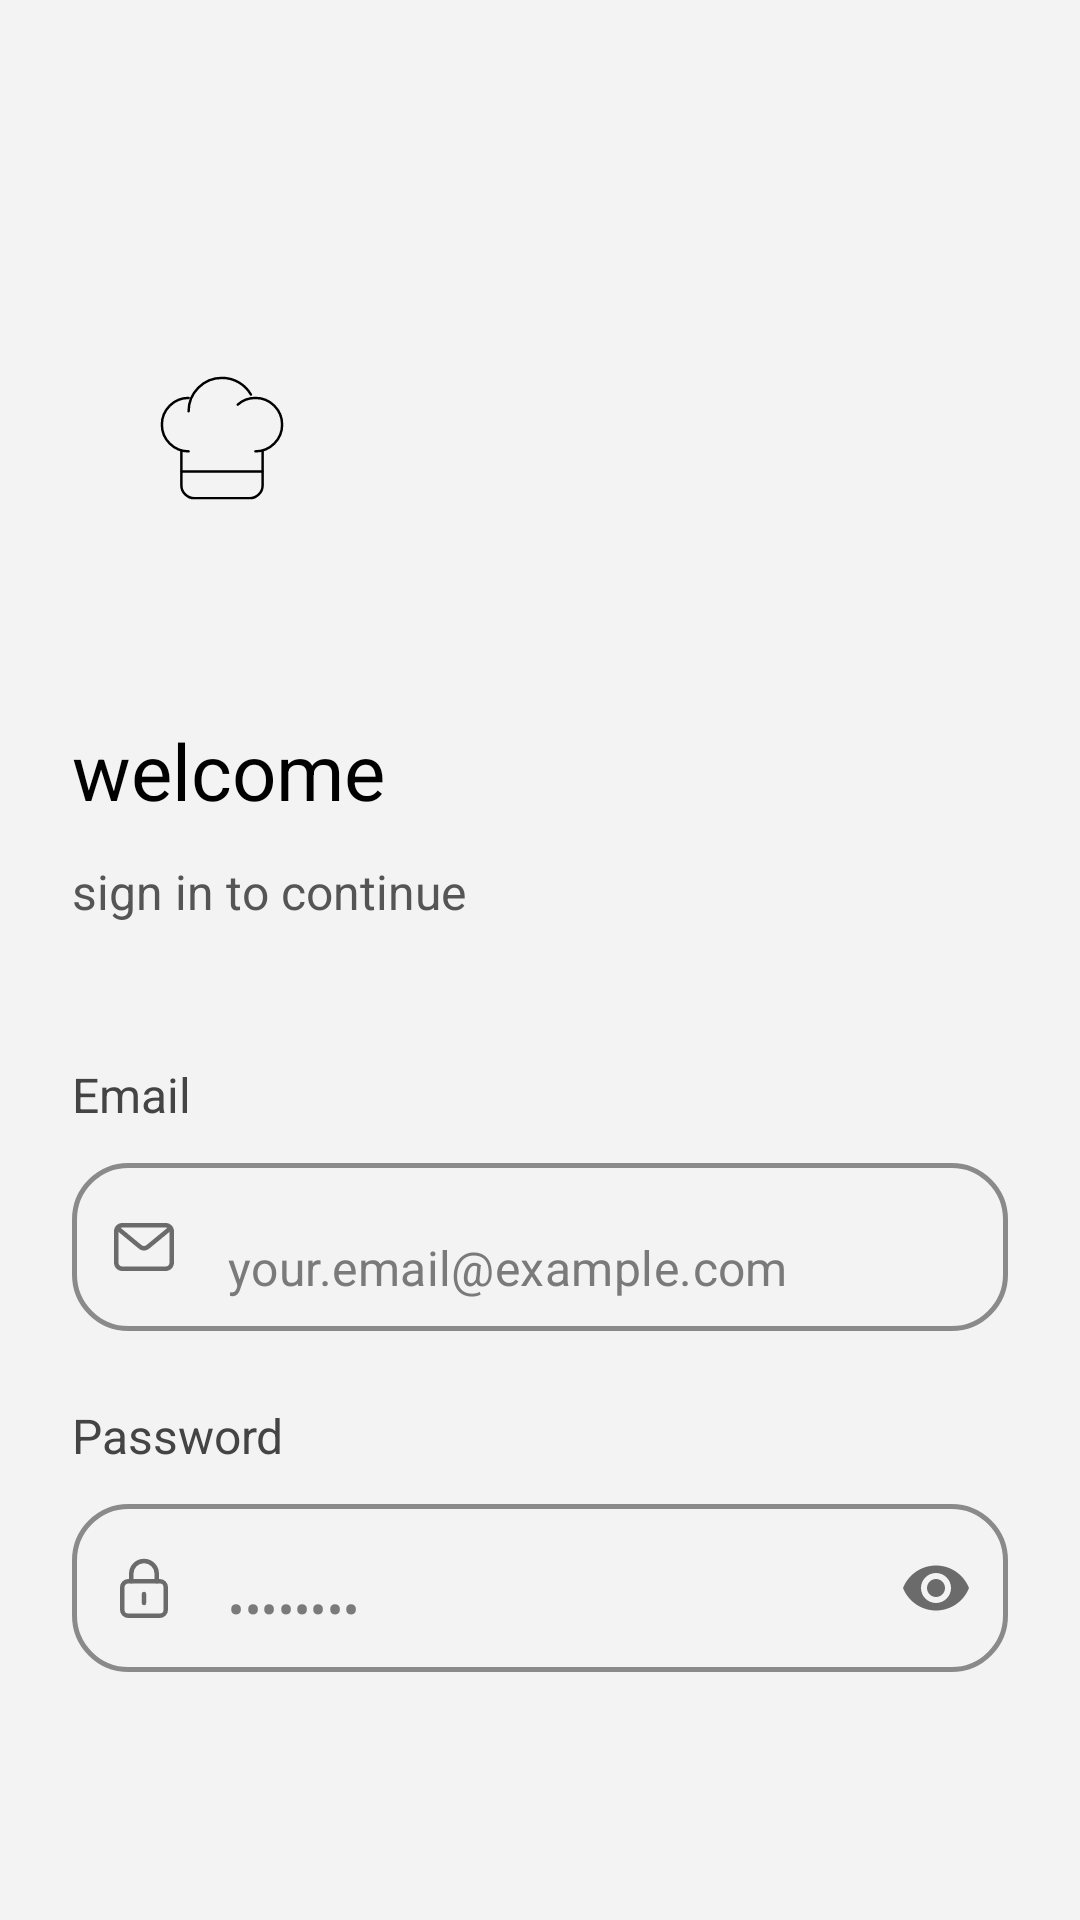

Icon click points for this 1080 × 1920 phone screenshot, format (x,y):
chef hat: (222,438)
